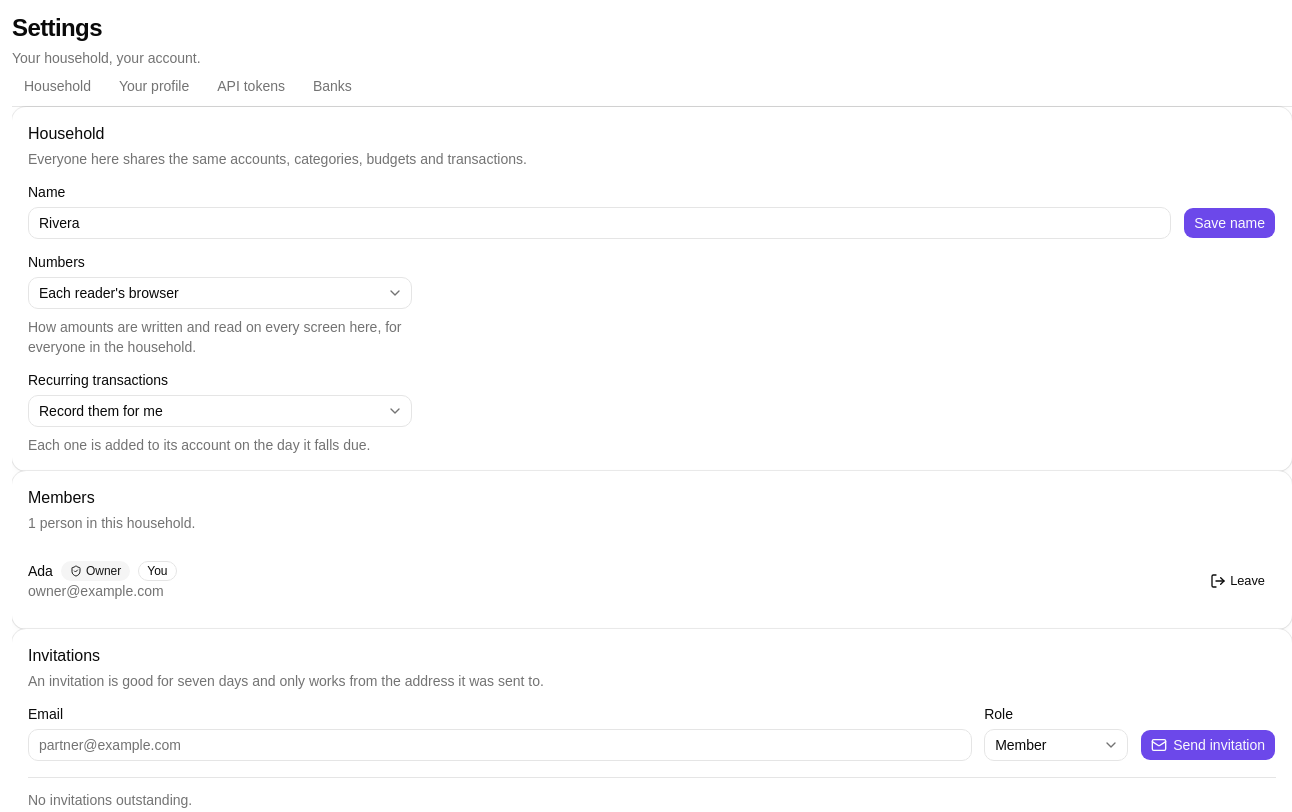
Scenario: household settings page › still follows the server after a rename of its own
Replace the text in the field labelled "Name" with "Rivera House" at [600, 223], box [28, 207, 1171, 239]
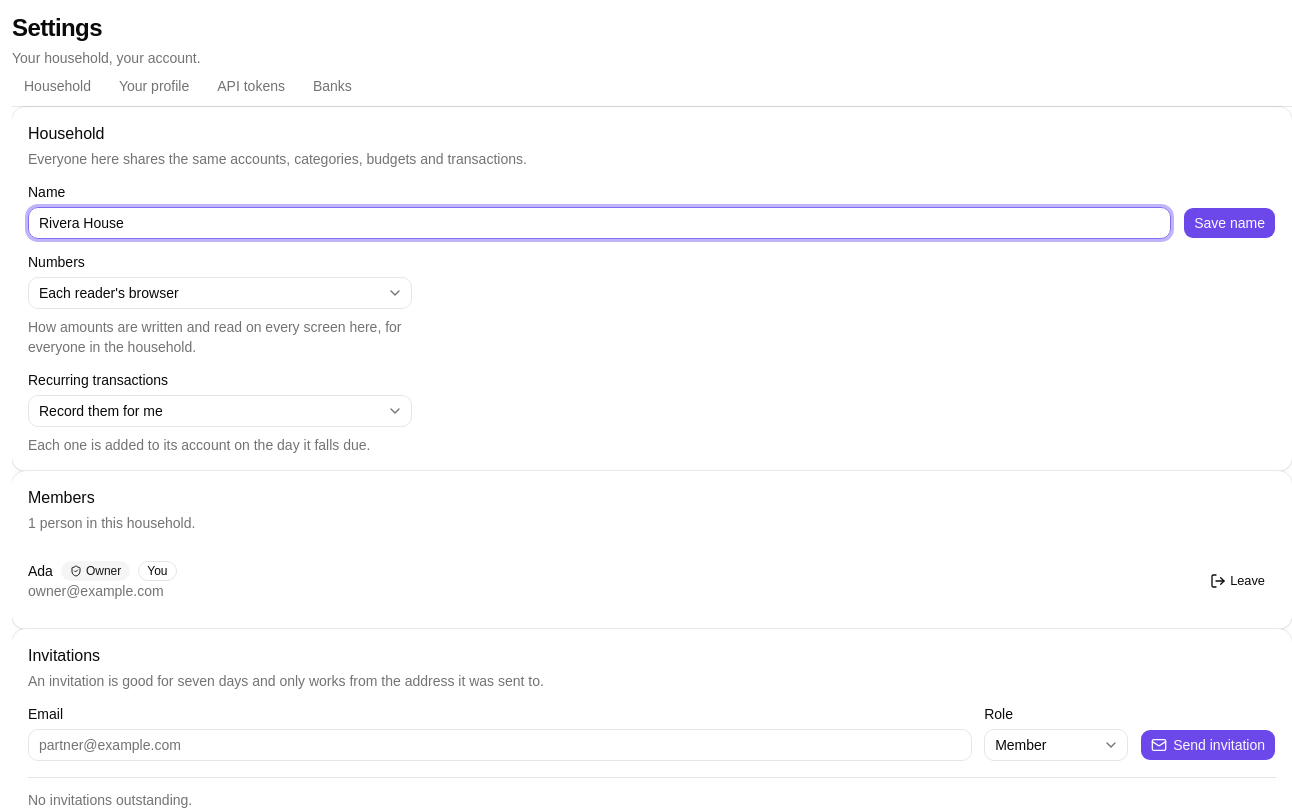
Click the button "Save name".
click(1230, 223)  # box [1183, 207, 1276, 239]
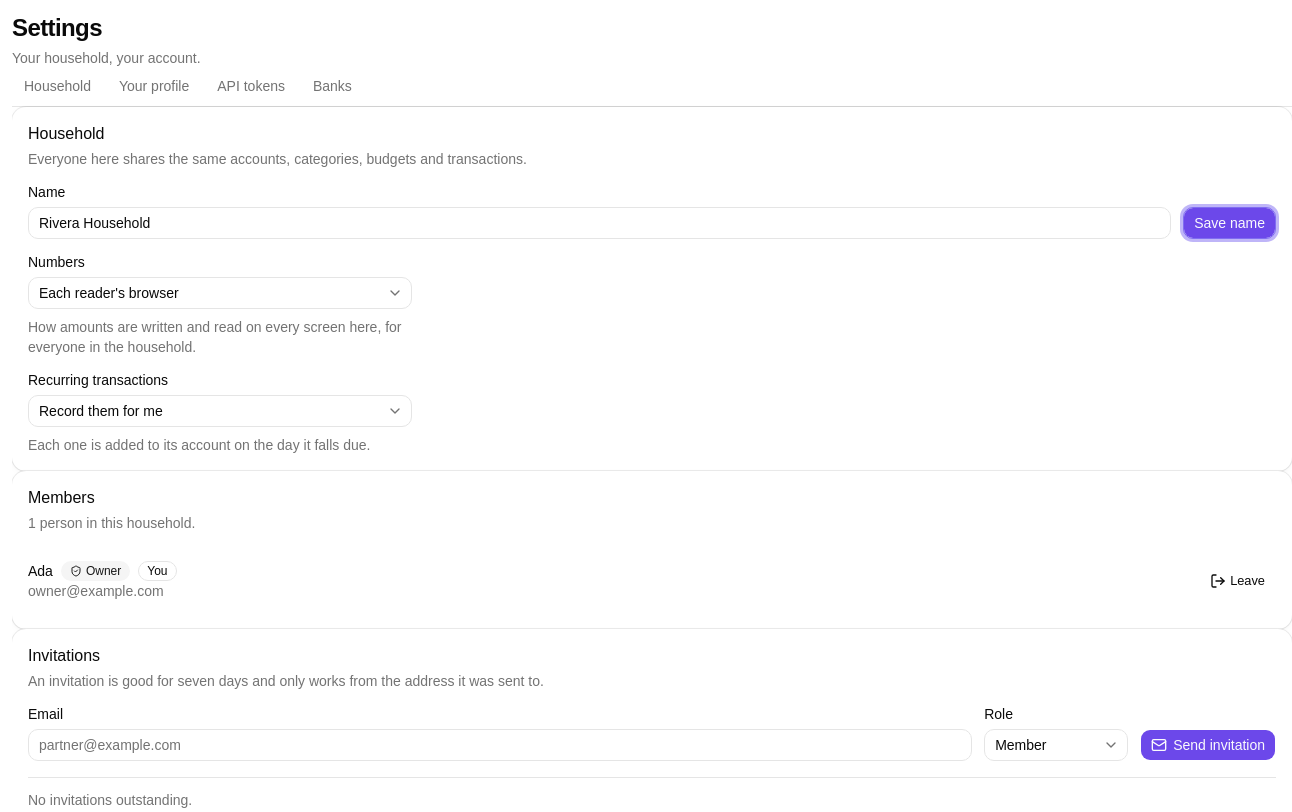
Expected: the field labelled "Name" holds "Rivera Household", [28, 207, 1171, 239]
